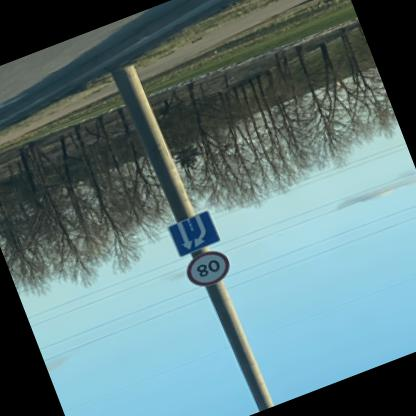speedlimit: (178, 246, 233, 294)
